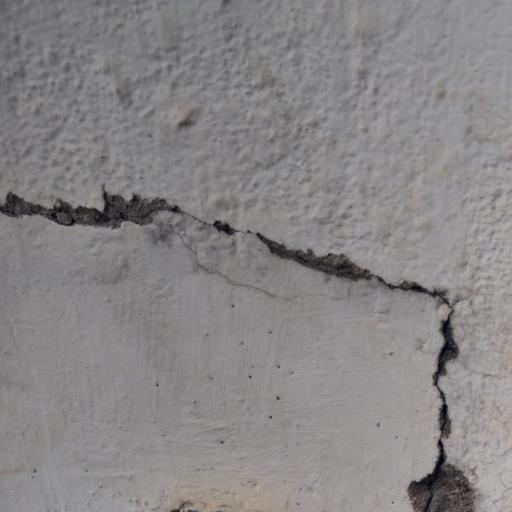major_crack: (0, 165, 472, 512)
